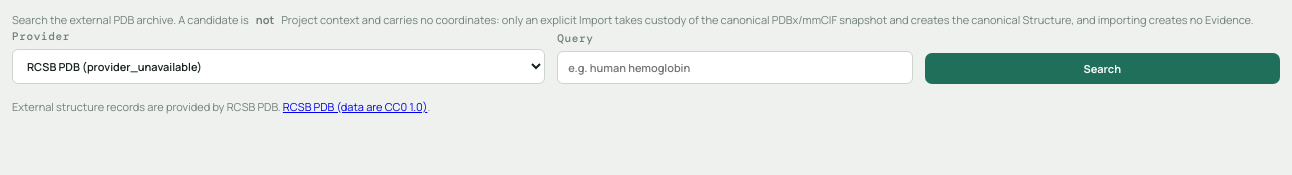
StructureDiscoveryView › blocks the search and shows a non-destructive error when the provider is unavailable
Type "hemoglobin" into the field named "Structure search query" at (735, 67), box top-left (557, 51), bottom-right (912, 84)
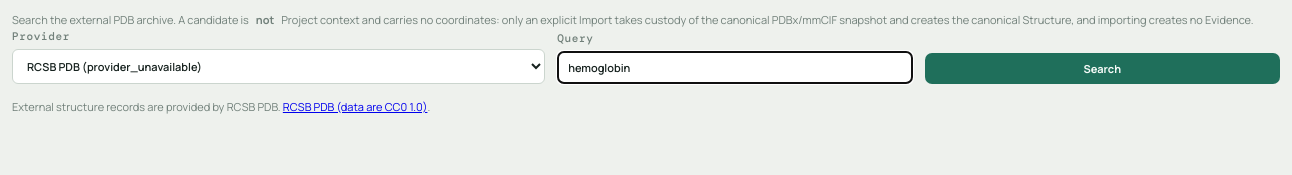
Click the button "Search" at (1102, 68), box top-left (925, 53), bottom-right (1280, 84)
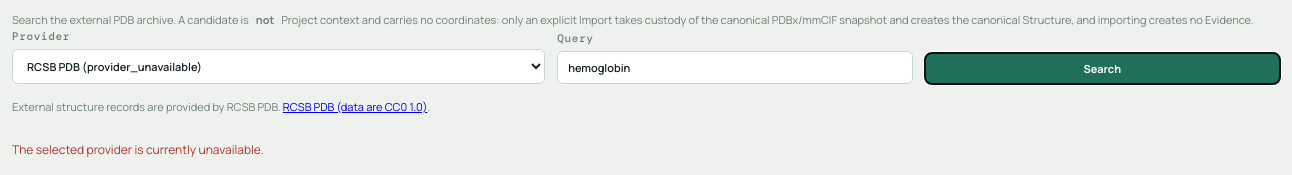
Expected: the text "The selected provider is currently unavailable." is shown, top-left (12, 141), bottom-right (264, 158)
